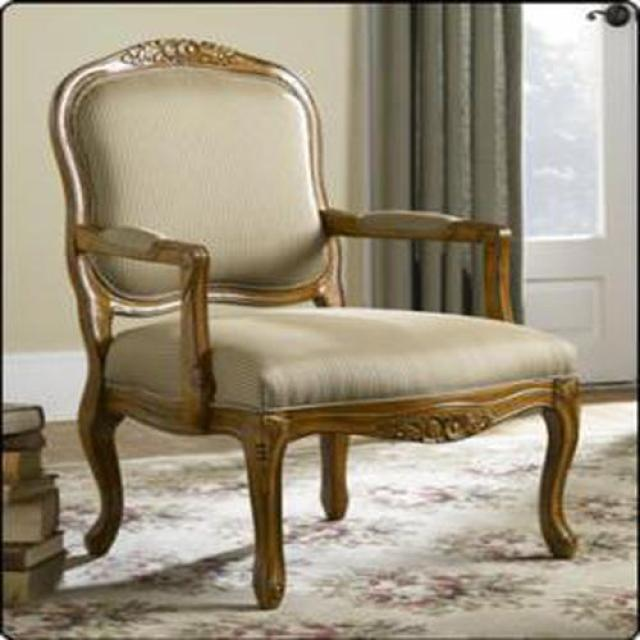chair: (49, 40, 582, 612)
